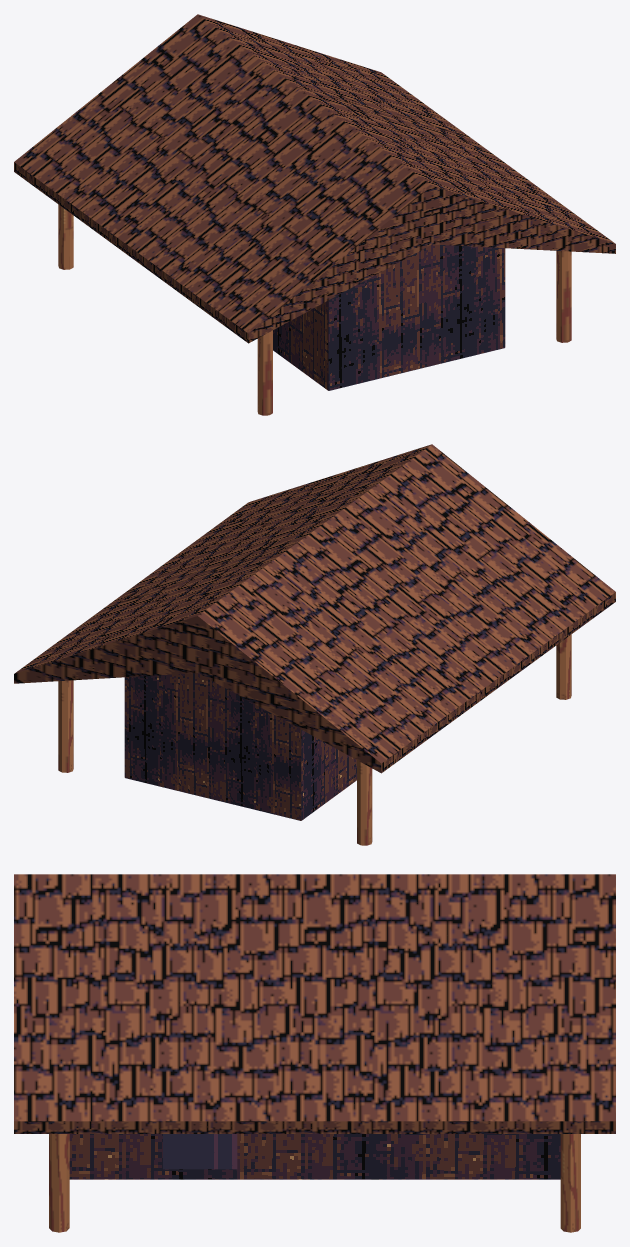
Rendered from CabanaSemiOficial.fbx.
The picture shows the model from 3 angles, top to bottom: view 1: azimuth 30°, elevation 25°; view 2: azimuth 150°, elevation 25°; view 3: azimuth 270°, elevation 25°; orthographic projection. The views are drawn at different scales.
Visible parts, largest first — view 1: Telhado, Cabana, Pilares; view 2: Telhado, Cabana, Pilares; view 3: Telhado, Cabana, Pilares.
Part boxes in pixels (bbox=[...]): Telhado: bbox=[14, 14, 615, 343]; Cabana: bbox=[273, 244, 505, 390]; Pilares: bbox=[58, 204, 571, 415]; Telhado: bbox=[14, 444, 615, 773]; Cabana: bbox=[124, 673, 356, 820]; Pilares: bbox=[58, 634, 571, 845]; Telhado: bbox=[14, 874, 615, 1133]; Cabana: bbox=[69, 1134, 560, 1179]; Pilares: bbox=[49, 1134, 580, 1232].
Size of the model in its own units: 416 by 220 by 460.
